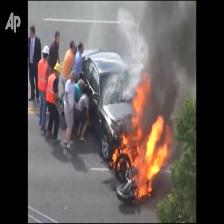fire: (122, 122, 163, 190)
smoke: (142, 8, 198, 105)
